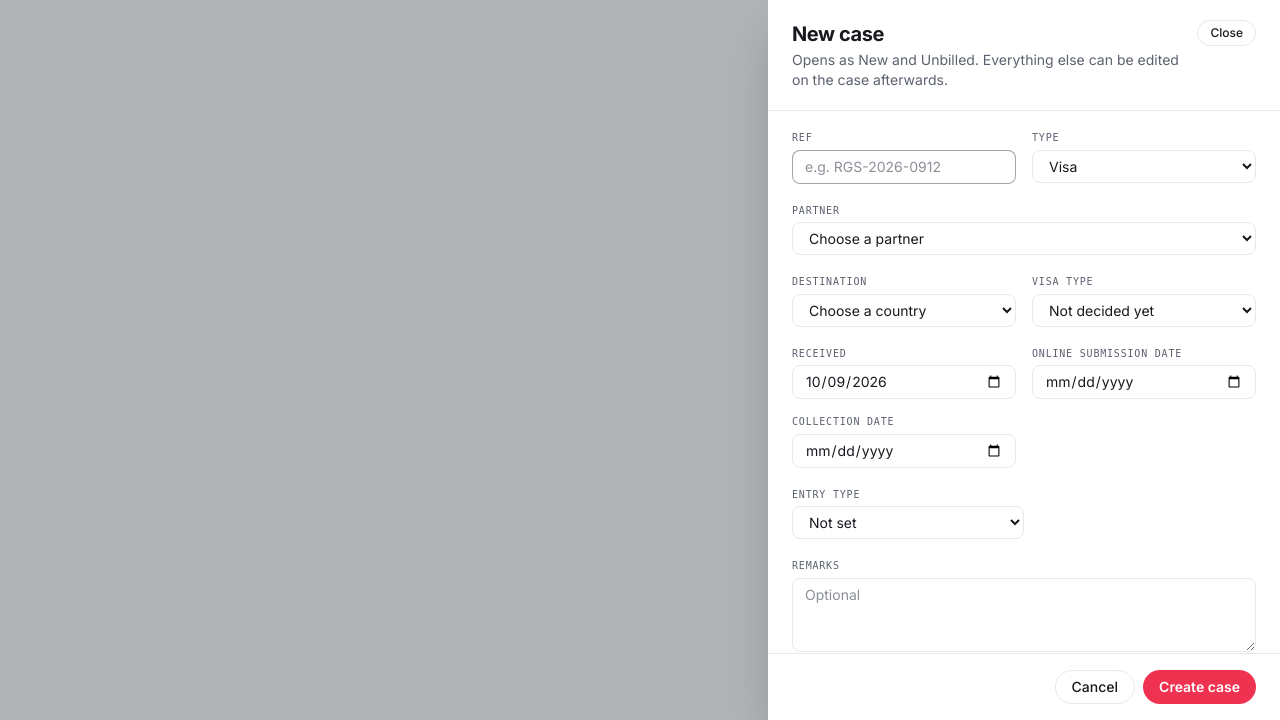
Scenario: NewCaseDrawer › refuses a collection date earlier than the received date before sending anything
Type " RGS-1 " into the field with placeholder "e.g. RGS-2026-0912" at (904, 166), box [792, 150, 1016, 184]
Select "United Arab Emirates" in the dropdown labelled "Destination" at (904, 310), box [792, 294, 1016, 326]
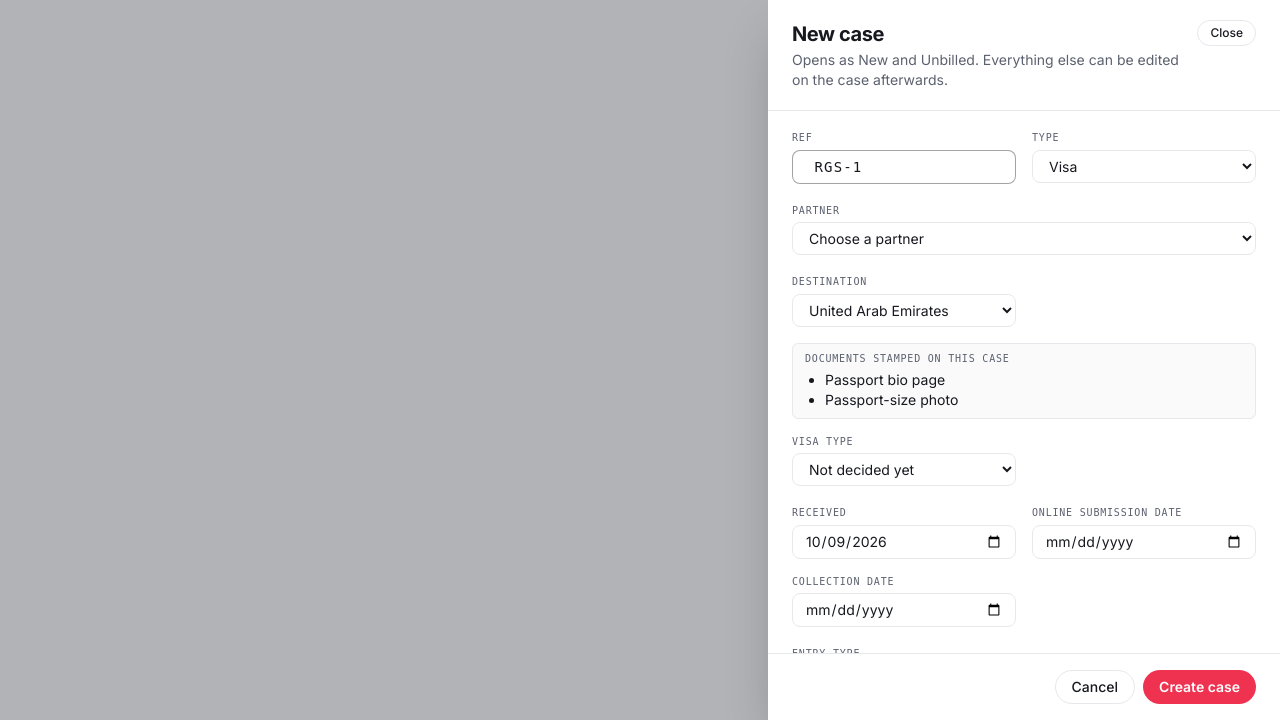
Type "2026-09-16" into the date field labelled "Received" at (904, 542), box [792, 525, 1016, 559]
(page scrolled)
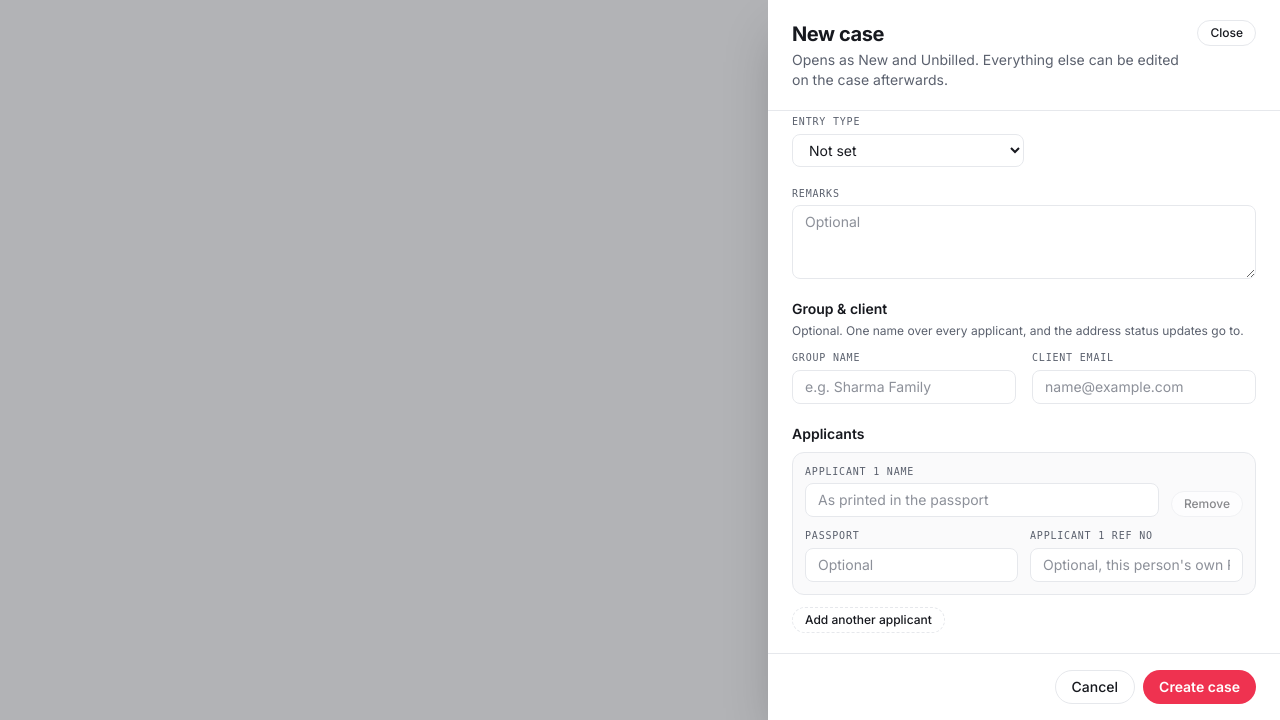
Type "Asha Rao" into the field labelled "Applicant 1 name" at (982, 500), box [805, 483, 1159, 517]
(page scrolled)
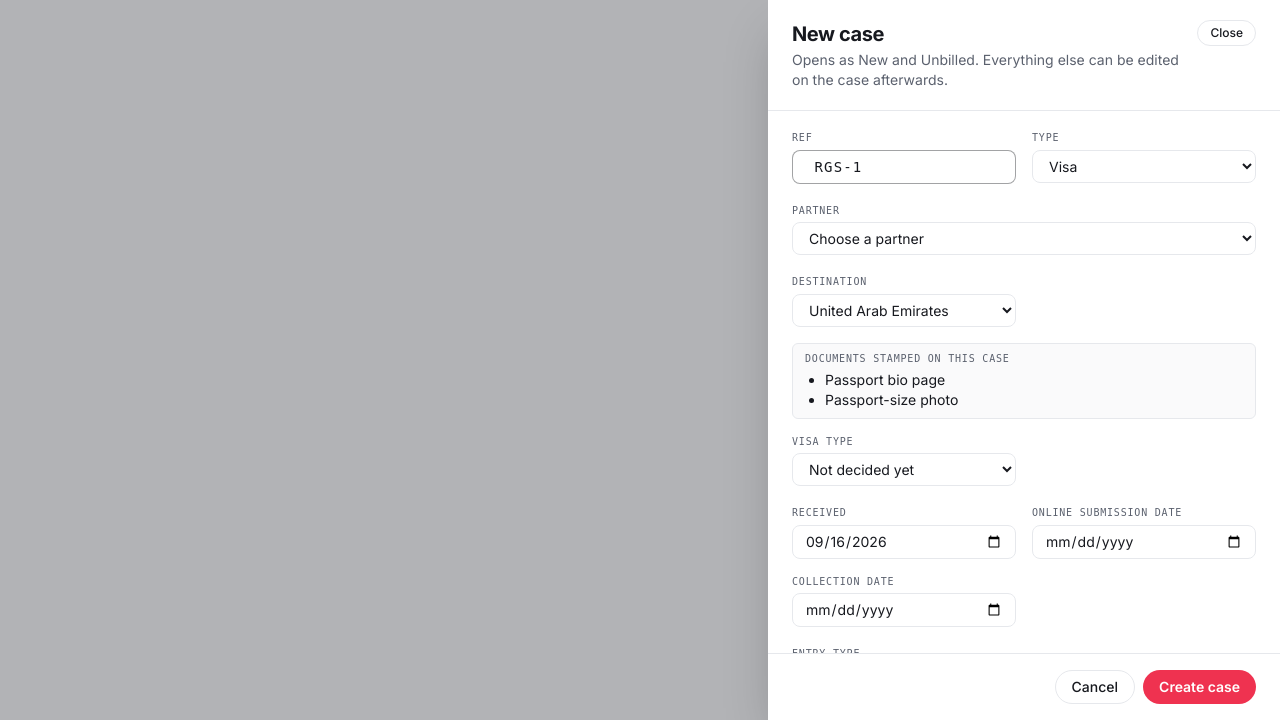
Select "Skyline Travels" in the dropdown labelled "Partner" at (1024, 238), box [792, 222, 1256, 255]
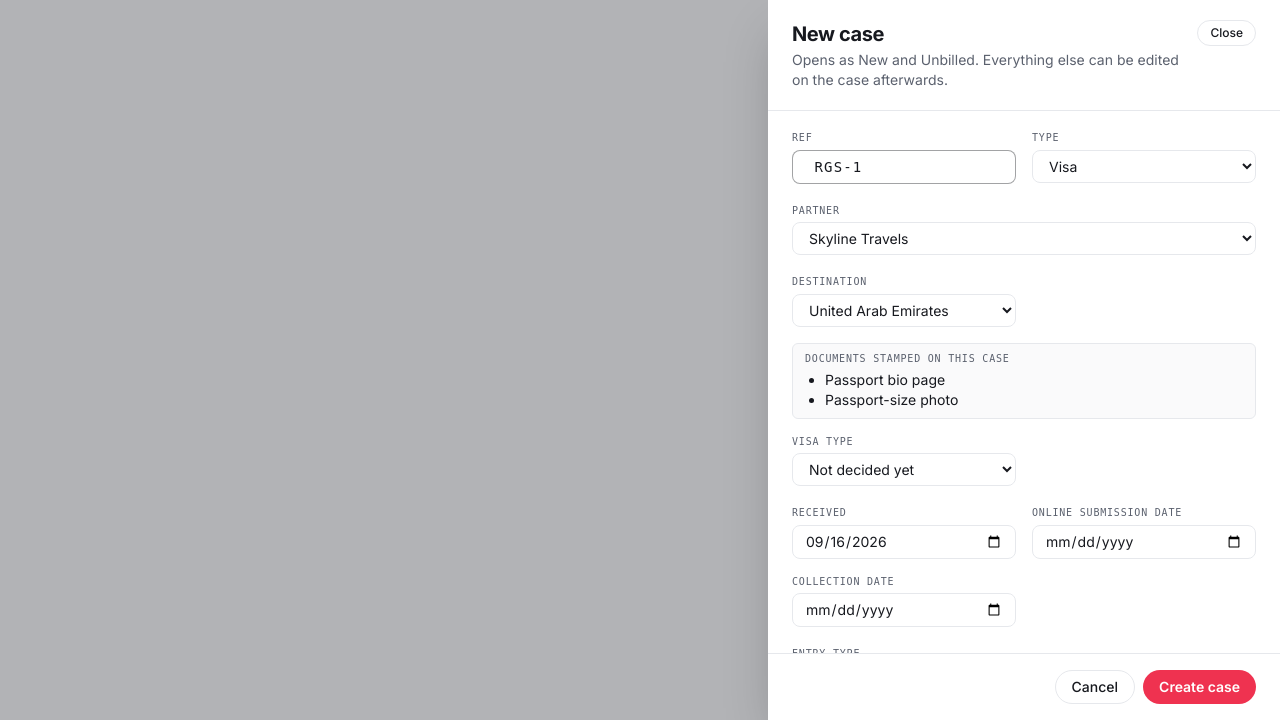
Type "2026-09-15" into the date field labelled "Collection date" at (904, 610), box [792, 593, 1016, 627]
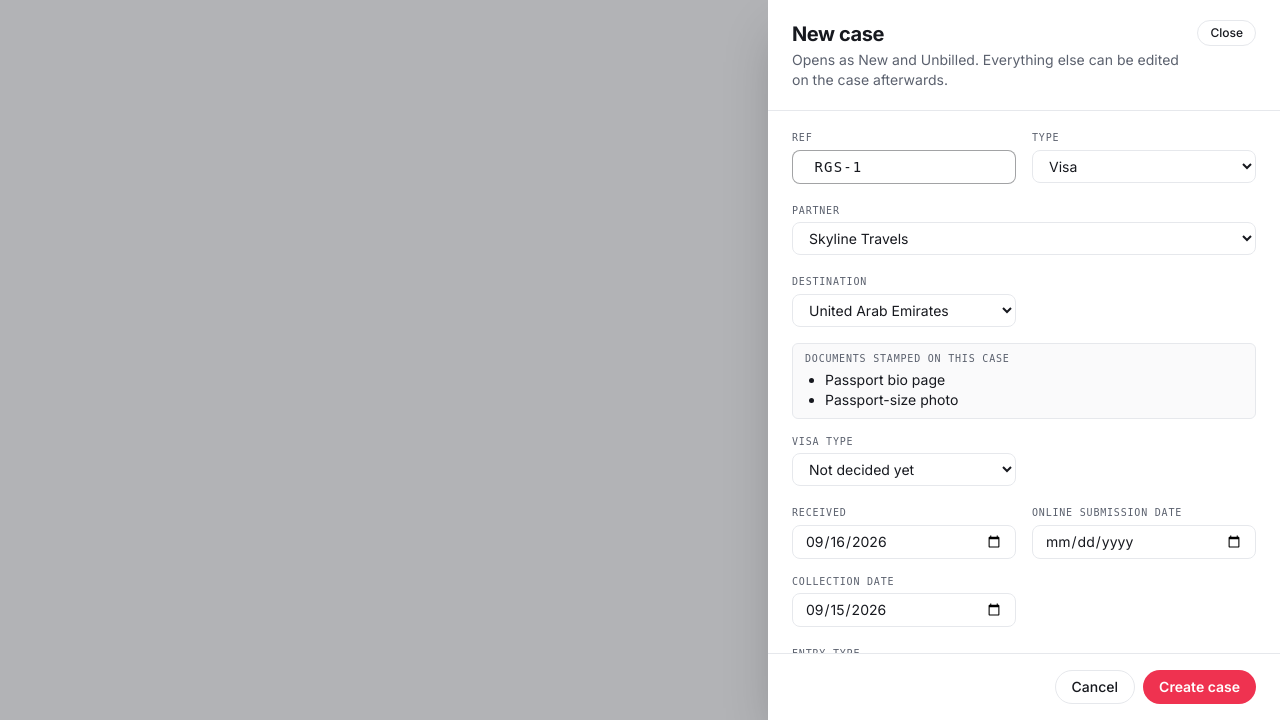
Click the button "Create case" at (1200, 687), box [1143, 670, 1256, 704]
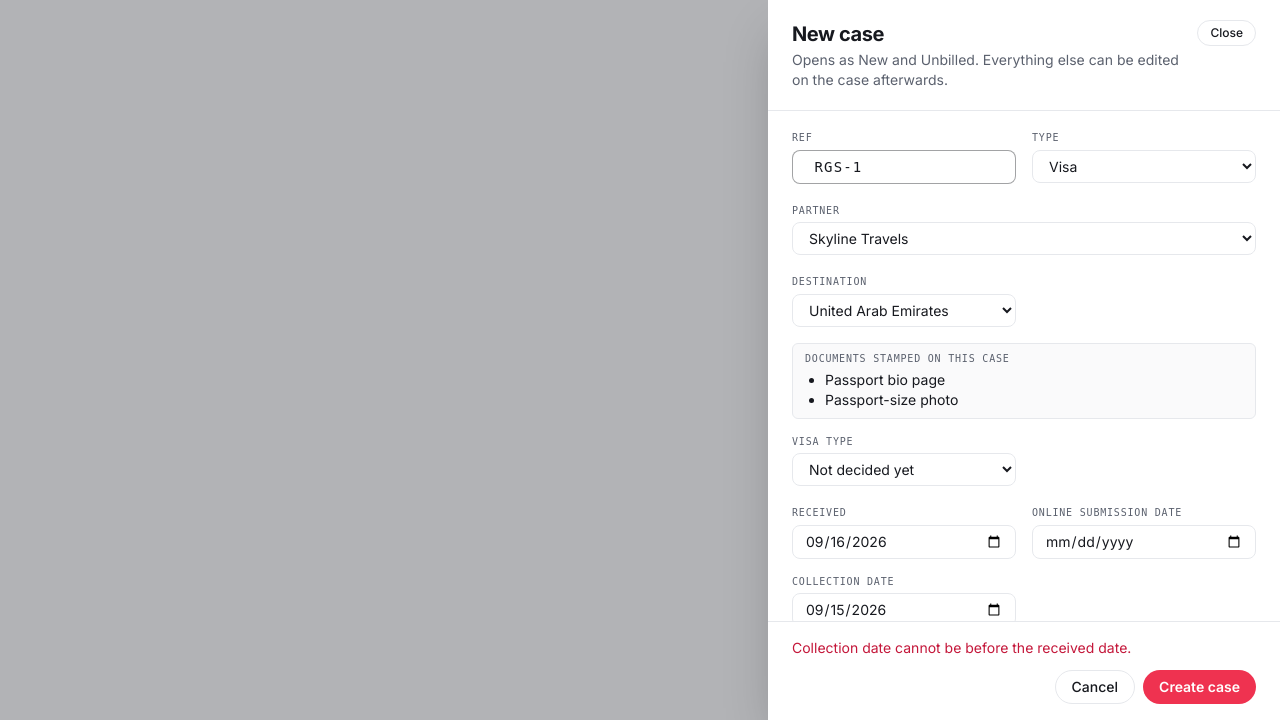
Check: the message reads "Collection date cannot be before the received date.", box [792, 639, 1131, 656]
